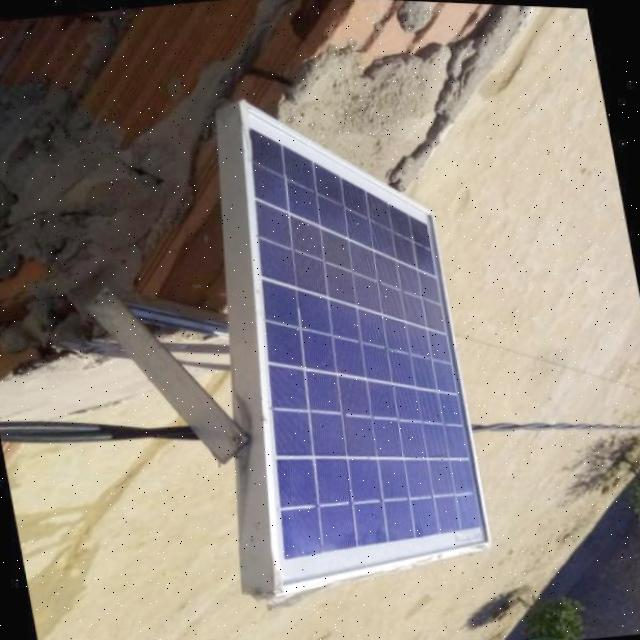Normal Solar Panel: (189, 75, 502, 599)
